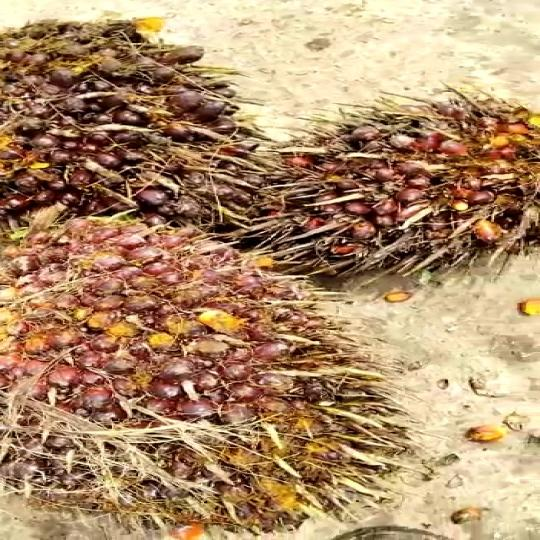masak: (0, 16, 276, 231), (263, 94, 540, 279)
